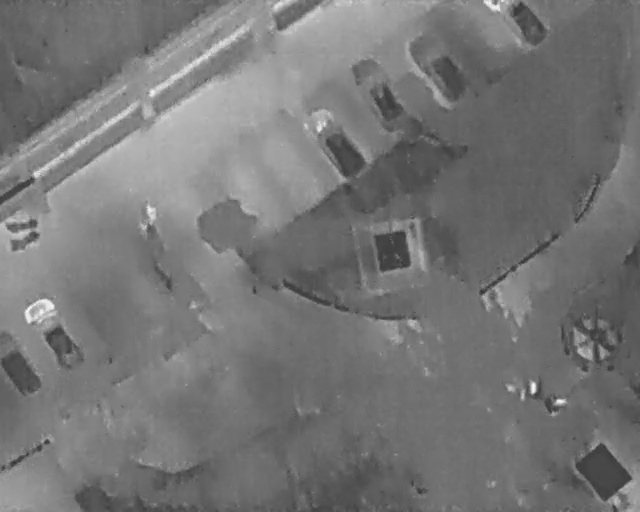Bicycle: (6, 225, 45, 254), (3, 215, 39, 234)
Car: (295, 98, 375, 187), (400, 22, 478, 110), (342, 48, 415, 139), (17, 291, 91, 378), (481, 0, 549, 47), (0, 326, 44, 398)
Person: (143, 200, 159, 225), (134, 220, 151, 242)
